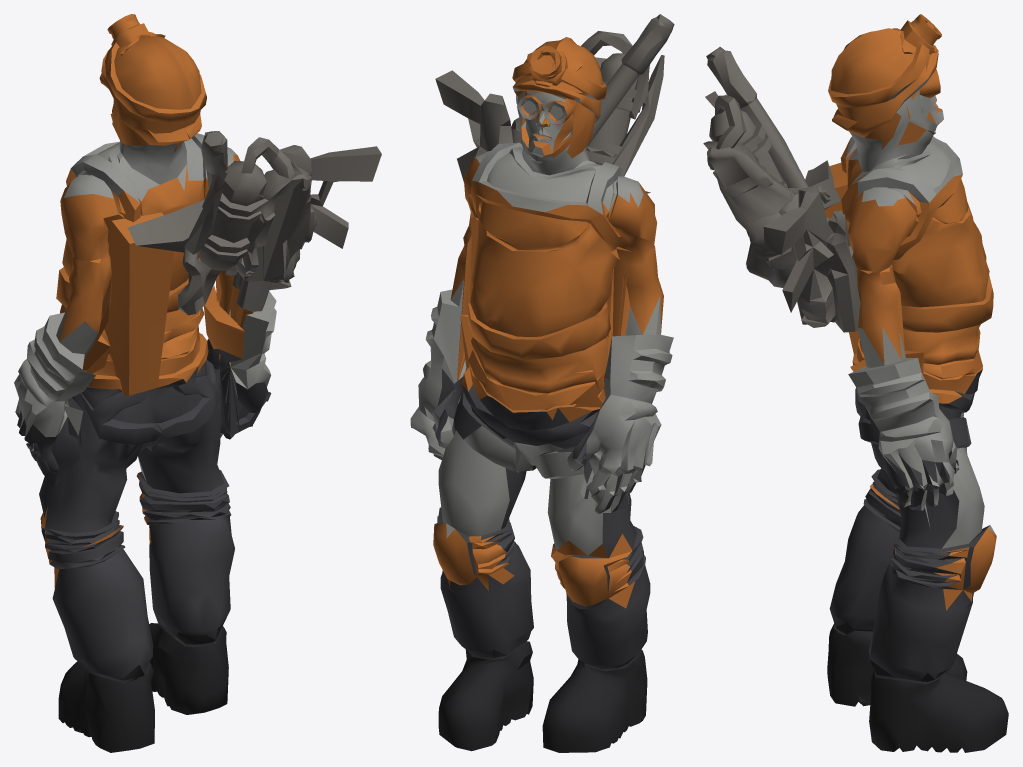
Rendered from character.glb.
The picture shows the model from 3 angles, left to right: view 1: azimuth 30°, elevation 25°; view 2: azimuth 150°, elevation 25°; view 3: azimuth 270°, elevation 25°; orthographic projection.
Visible parts, largest first — view 1: body; view 2: body; view 3: body.
Boxes of the visible parts, x1,y1,x2,y2 form: body: (14,14,381,752); body: (410,14,674,752); body: (703,14,1008,752).
Bounding box in the file's own units: 0.7781 × 1.8 × 0.7179.
